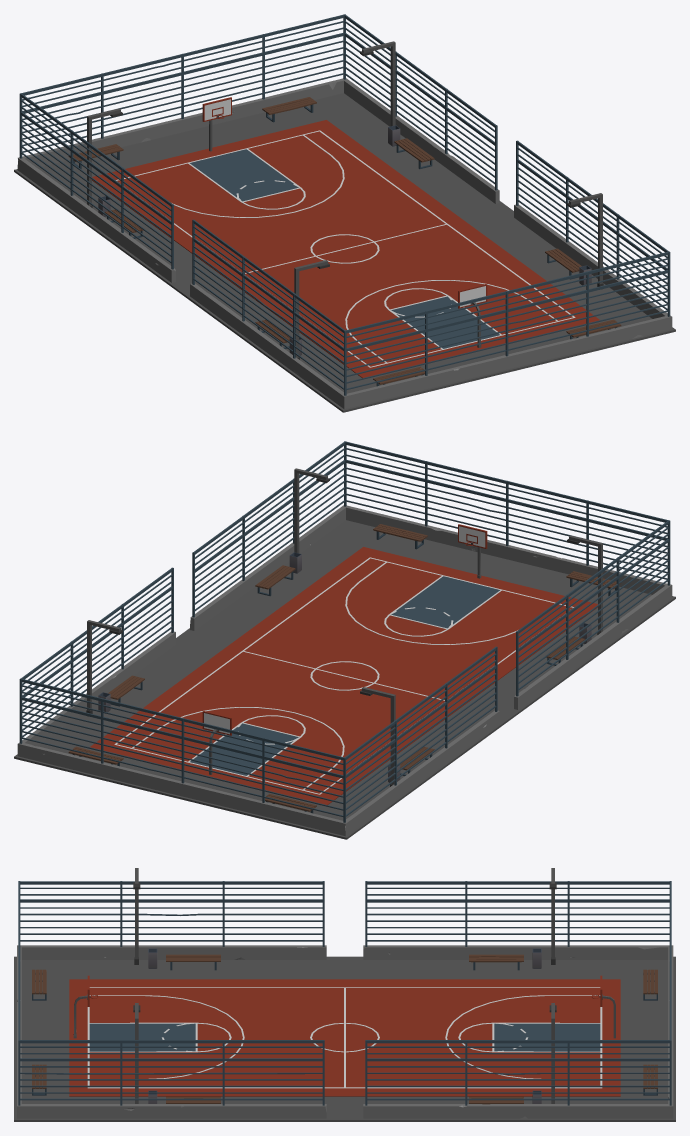
Rendered from SM_Buildings_Basketball_01.fbx.
3 views of the same model, one above another, from view 1: azimuth 30°, elevation 25°; view 2: azimuth 150°, elevation 25°; view 3: azimuth 270°, elevation 25° (orthographic).
Parts seen in each view (by area): view 1: SM_Buildings_Basketball_01; view 2: SM_Buildings_Basketball_01; view 3: SM_Buildings_Basketball_01.
Boxes of the visible parts, left/top/right/bottom form: SM_Buildings_Basketball_01: left=14, top=14, right=675, bottom=412; SM_Buildings_Basketball_01: left=14, top=441, right=675, bottom=839; SM_Buildings_Basketball_01: left=14, top=868, right=675, bottom=1121.
Bounding box in the file's own units: 21 × 5.82 × 36.
